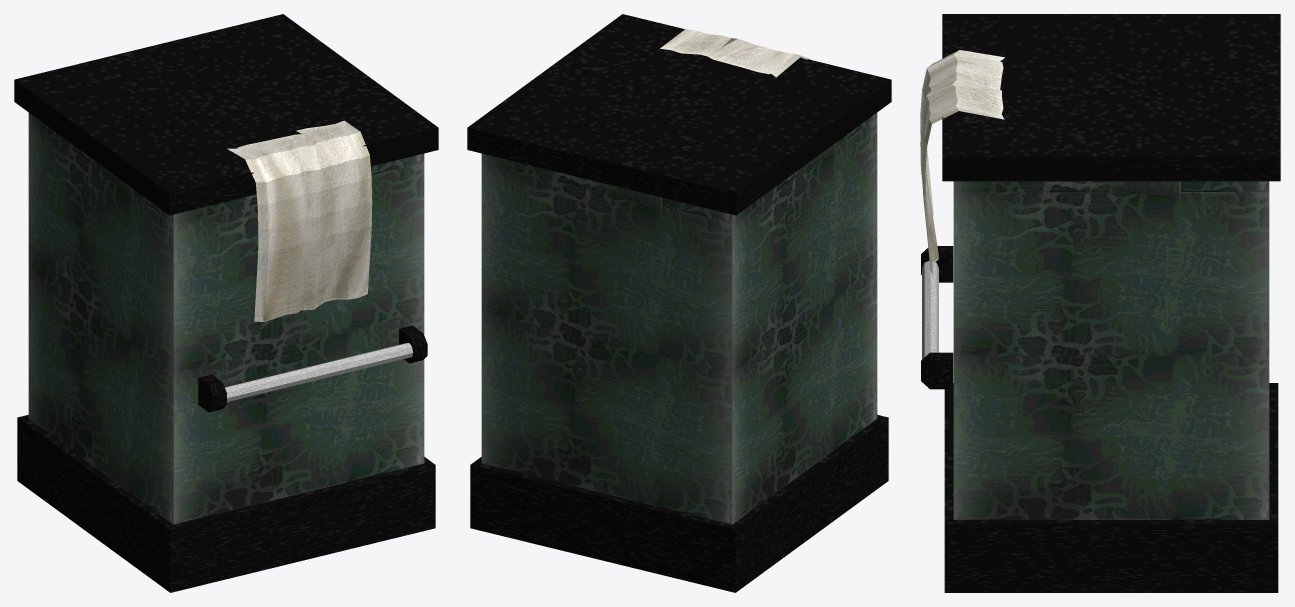
The model's file is BoxBanheiro.fbx.
3 views of the same model, side by side, from view 1: azimuth 30°, elevation 25°; view 2: azimuth 150°, elevation 25°; view 3: azimuth 270°, elevation 25° (orthographic). The views are drawn at different scales.
Parts seen in each view (by area): view 1: Plane; view 2: Plane; view 3: Plane.
Part boxes in pixels (x1=…): Plane: x1=14, y1=14, x2=438, y2=592; Plane: x1=467, y1=14, x2=891, y2=592; Plane: x1=920, y1=14, x2=1280, y2=592.
Bounding box in the file's own units: 215 × 312 × 229.
2 materials, 2 textured.
